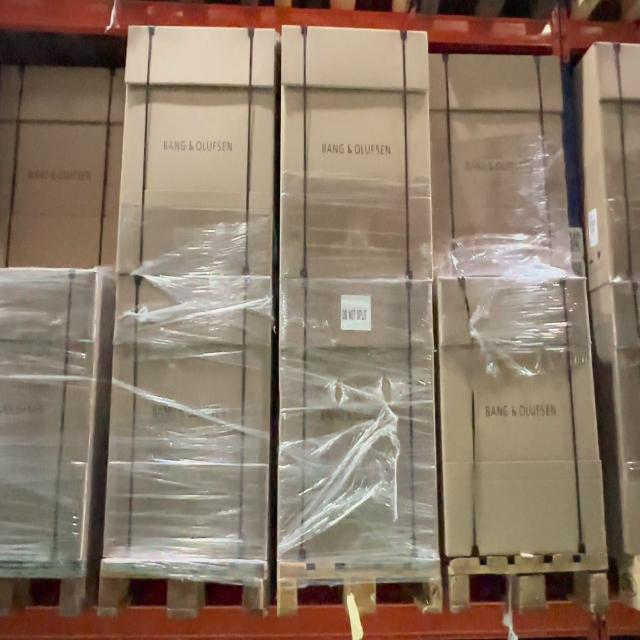box: (103, 274, 272, 562), (437, 278, 607, 559), (278, 274, 439, 560), (116, 26, 278, 278), (279, 25, 433, 280), (430, 54, 571, 279)
